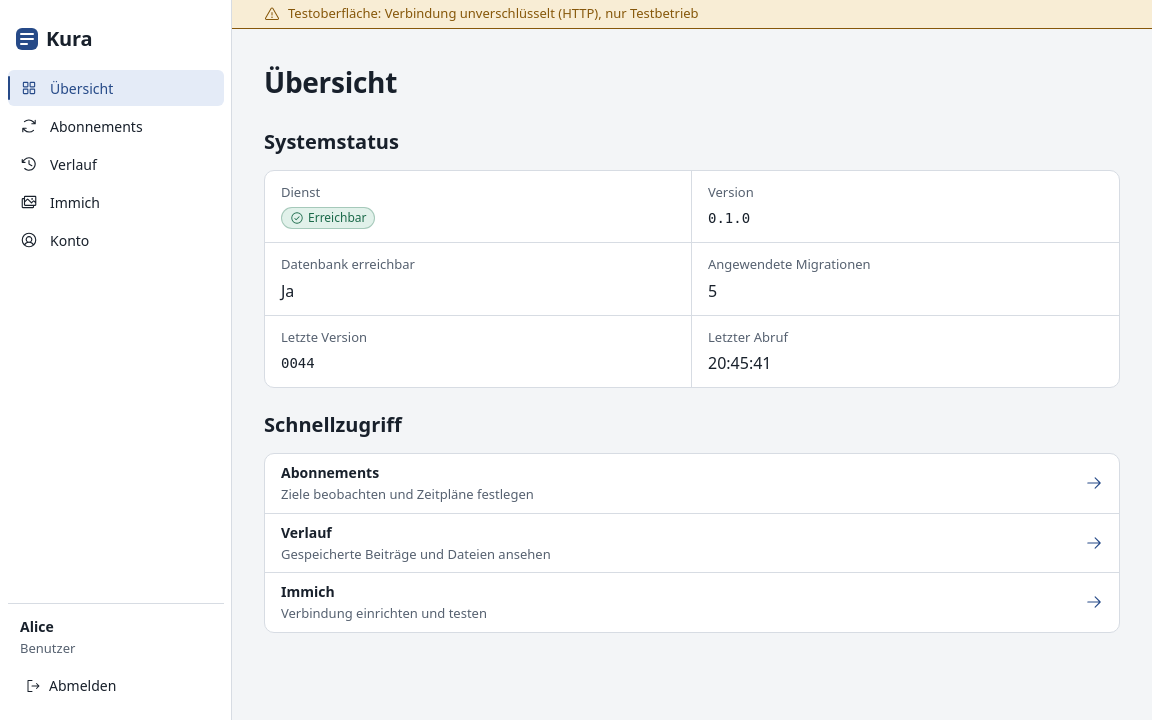
Scenario: asks before deleting and deletes only after confirmation
Expected: the text "Erreichbar" is shown, x1=281 y1=207 x2=376 y2=229
Click the button "Abonnements". click: point(116, 126)
box: x1=8 y1=108 x2=224 y2=144
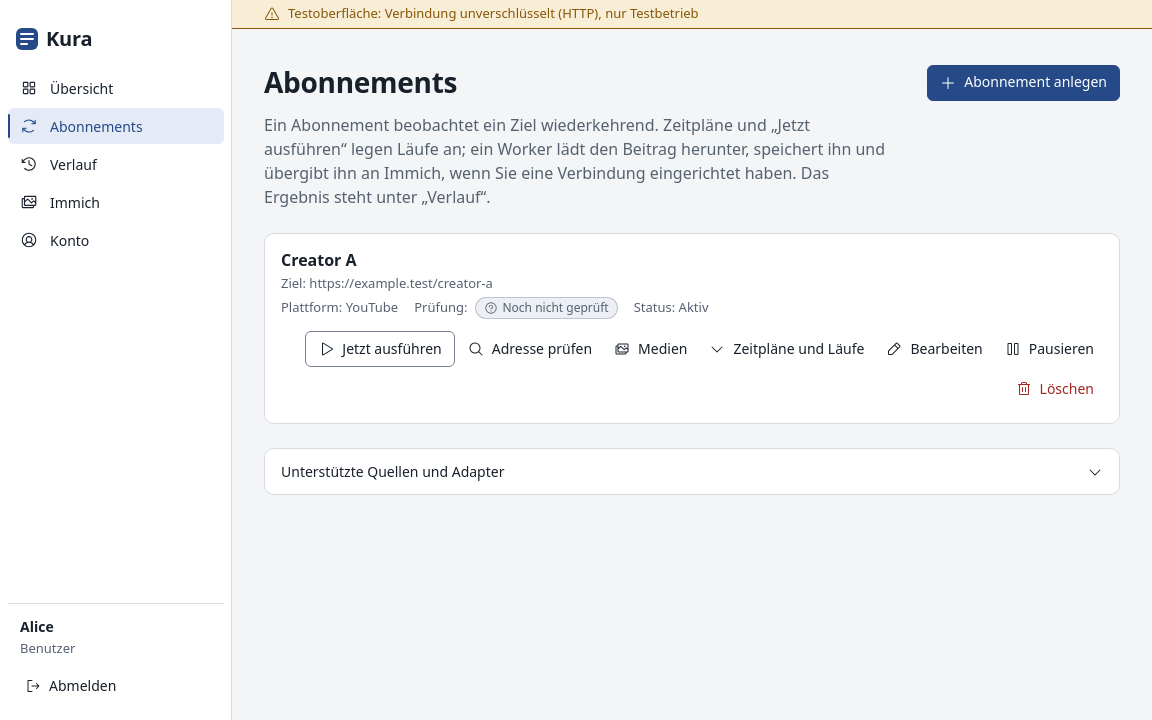
Expected: the heading "Abonnements" is shown, x1=264 y1=65 x2=457 y2=100
Click the button "Löschen". click: point(1055, 389)
box: x1=1007 y1=371 x2=1103 y2=407
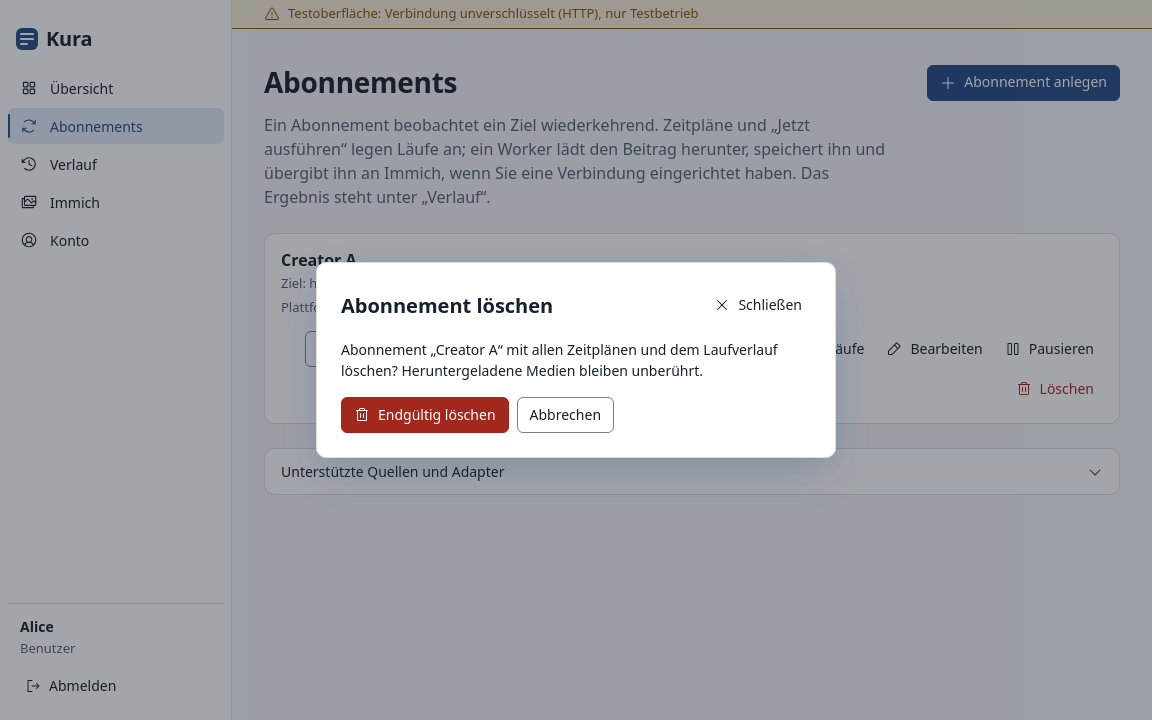
Expected: the text "Heruntergeladene Medien bleiben unberührt" is shown, x1=341 y1=340 x2=778 y2=380
Click the button "Endgültig löschen". click: point(425, 415)
box: x1=341 y1=397 x2=508 y2=433
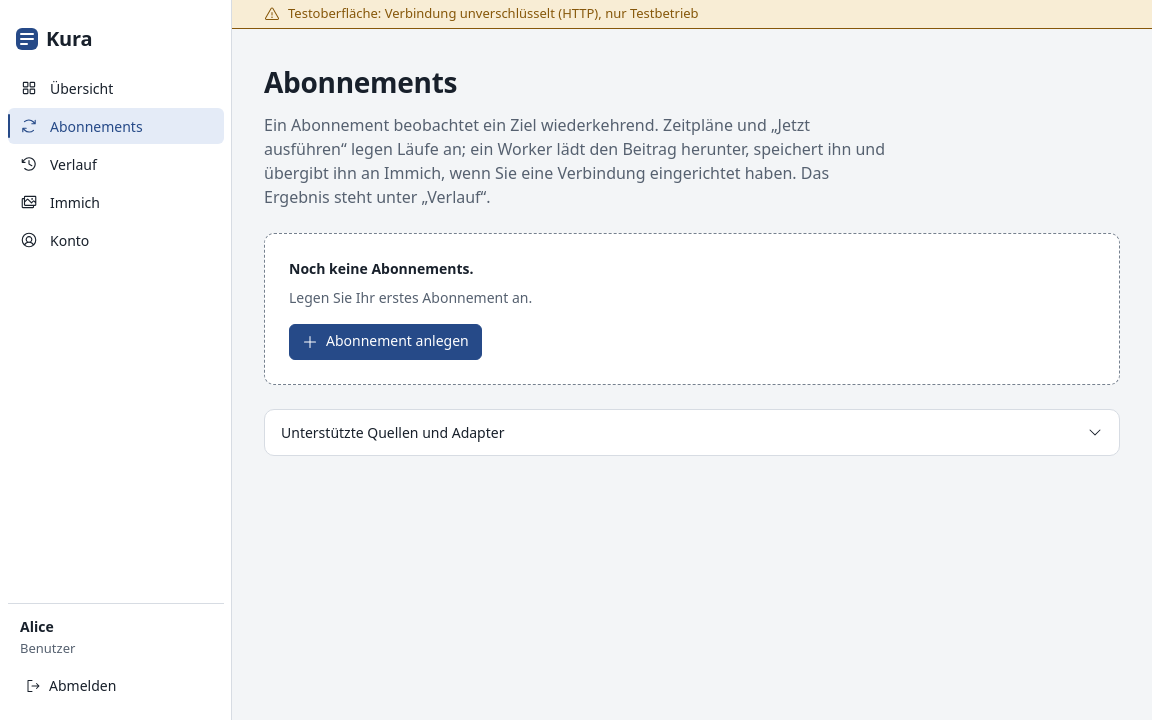
Expected: the text "Noch keine Abonnements." is shown, x1=289 y1=258 x2=474 y2=278
